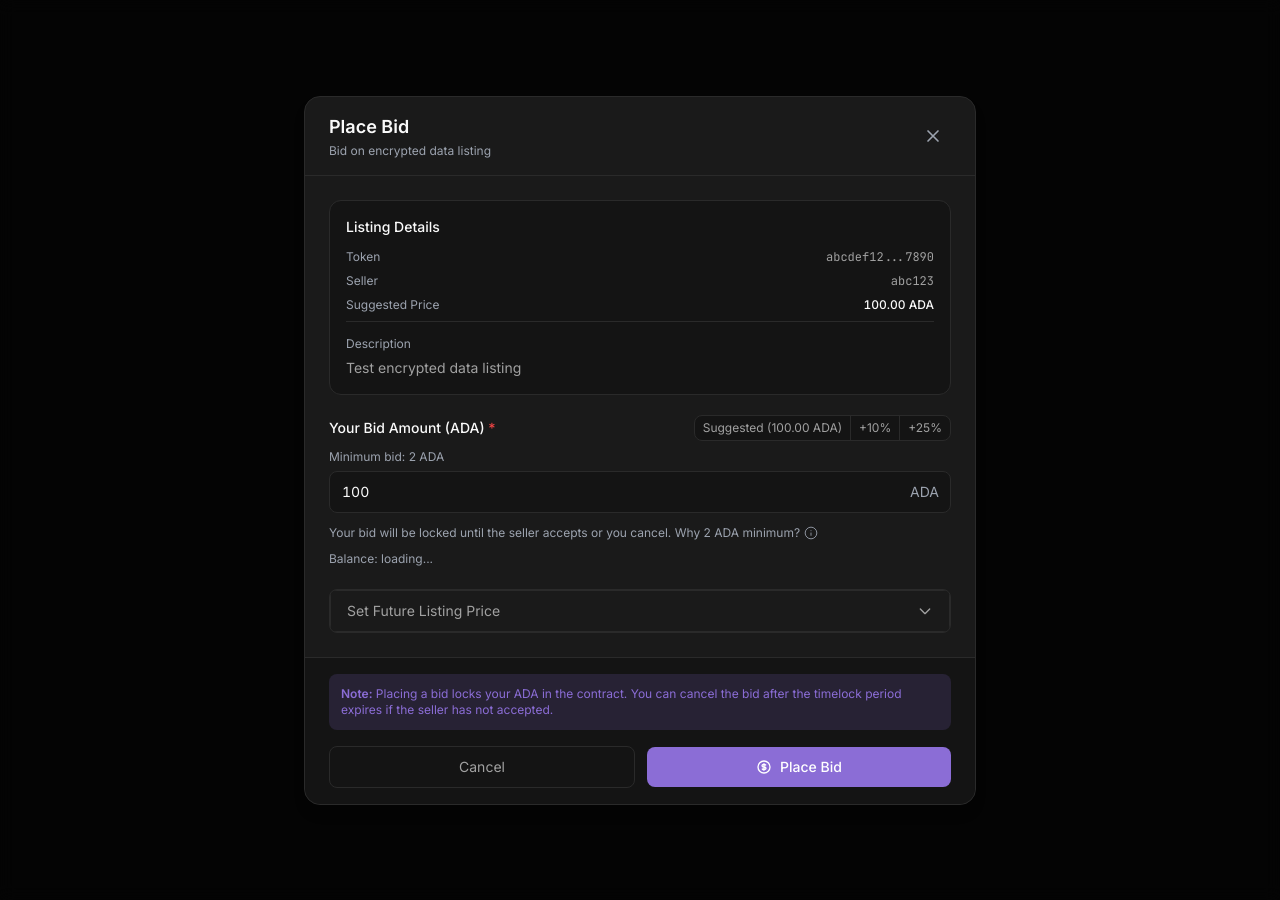
Test: PlaceBidModal › clamps bid amount to Cardano max supply (45B ADA)
The width and height of the screenshot is (1280, 900).
Step 1. Replace the text in the field labelled "Your Bid Amount (ADA) *" with "99999999999" → (640, 492), box x1=329 y1=470 x2=951 y2=512
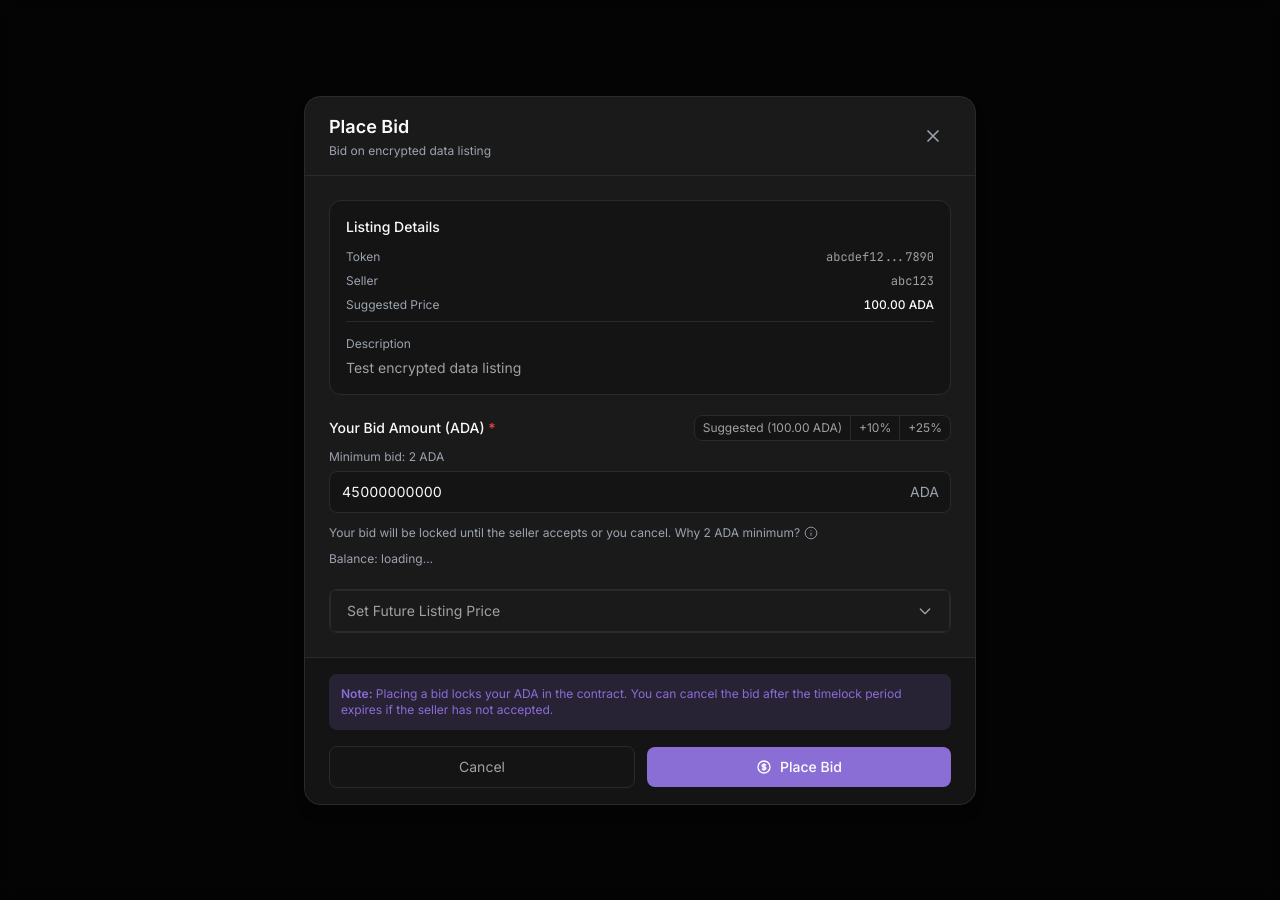
Result: the field labelled "Your Bid Amount (ADA) *" holds "45000000000" at x1=329 y1=470 x2=951 y2=512
